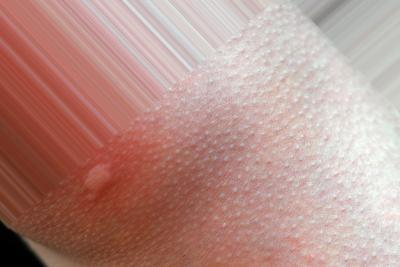Mosquito: (74, 155, 120, 203)
